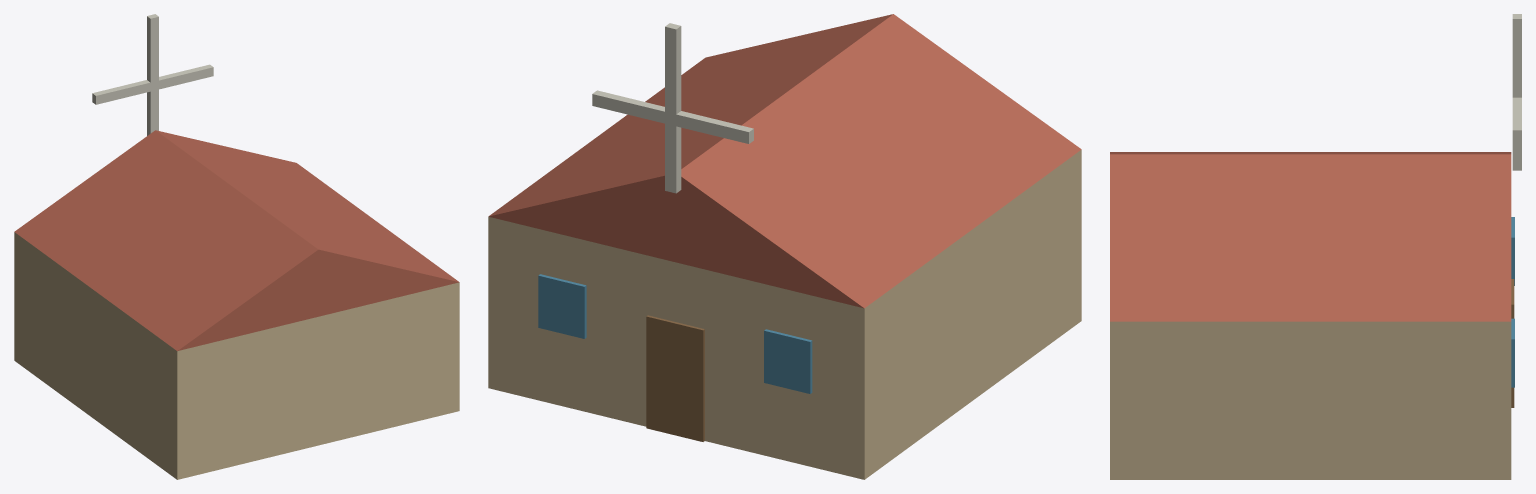
Rendered from rice_mill.glb.
3 renders of one model, left to right at view 1: azimuth 30°, elevation 25°; view 2: azimuth 150°, elevation 25°; view 3: azimuth 270°, elevation 25°, orthographic. The views are drawn at different scales.
Bounding box in the file's own units: 5.28 × 5.5 × 5.42.
